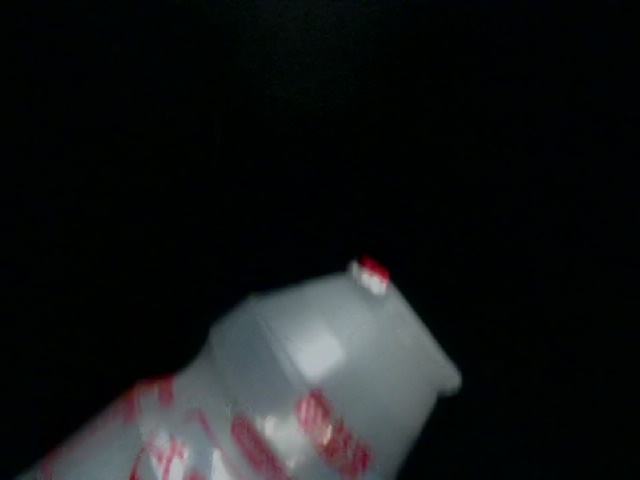CYLJ: (60, 304, 170, 417)
